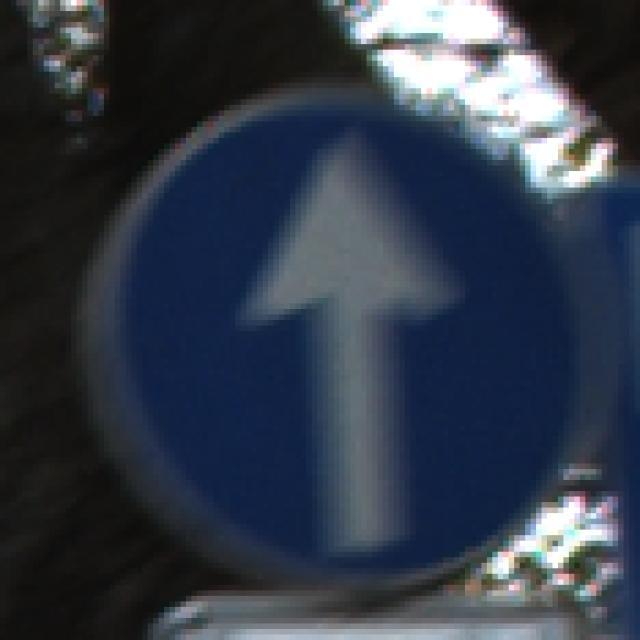compulsary ahead: (90, 99, 590, 593)
